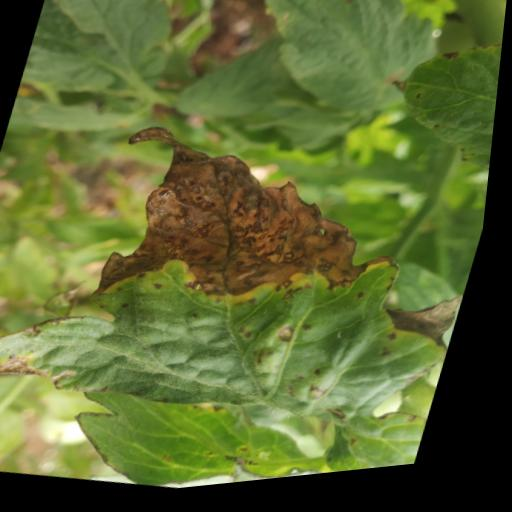Early Blight: (55, 92, 501, 467)
